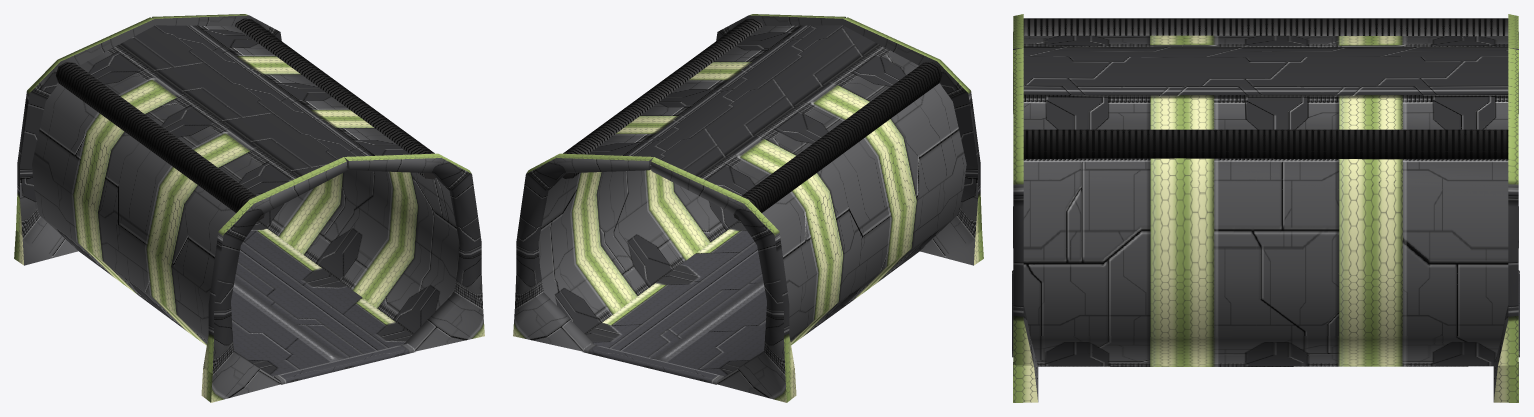
File: Tunnel straight.fbx
The picture shows the model from 3 angles, left to right: view 1: azimuth 30°, elevation 25°; view 2: azimuth 150°, elevation 25°; view 3: azimuth 270°, elevation 25°; orthographic projection. The views are drawn at different scales.
Visible parts, largest first — view 1: Tunnel straight; view 2: Tunnel straight; view 3: Tunnel straight.
Part boxes in pixels (<box>): Tunnel straight: <box>14,14,484,402</box>; Tunnel straight: <box>513,14,983,402</box>; Tunnel straight: <box>1012,14,1519,402</box>.
Bounding box in the file's own units: 389 × 284 × 486.
